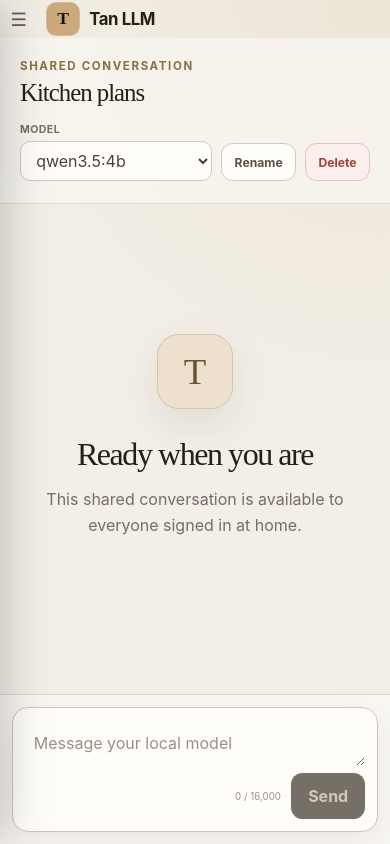
Test: shared conversation management › opens and closes the mobile conversation drawer
The width and height of the screenshot is (390, 844).
Expected: the heading "Kitchen plans" is shown, [20,79,144,106]
Click the button named "Open conversations" at (19, 19), box [0,0,38,38]
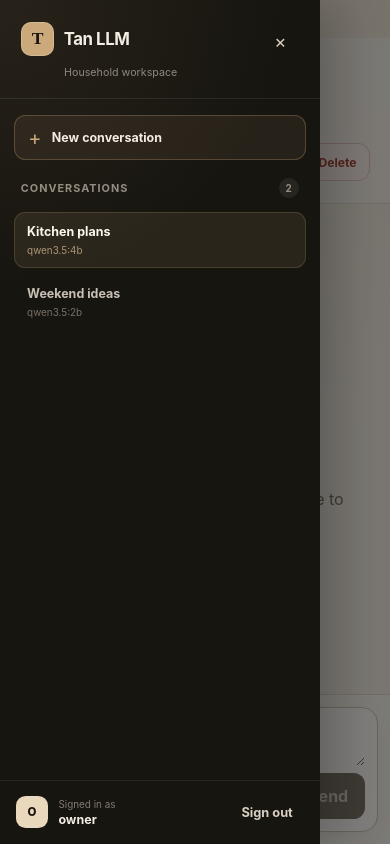
Result: the button named "Open conversations" is expanded at [0,0,38,38]
Click the button named "Close conversations" at (367, 422), box [0,0,389,843]
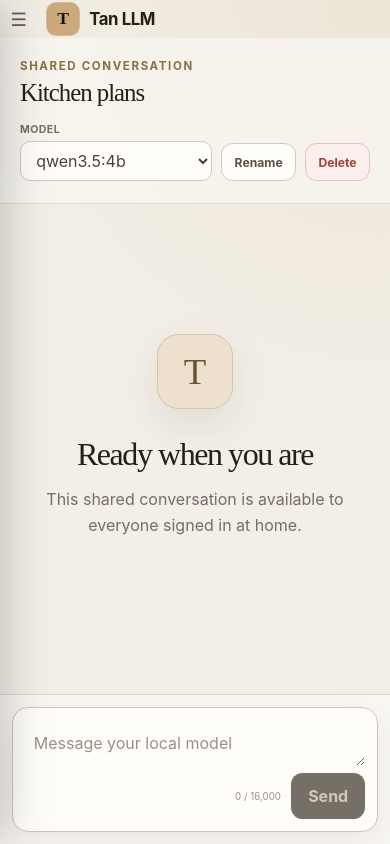
Result: the button named "Open conversations" is collapsed at [0,0,38,38]
